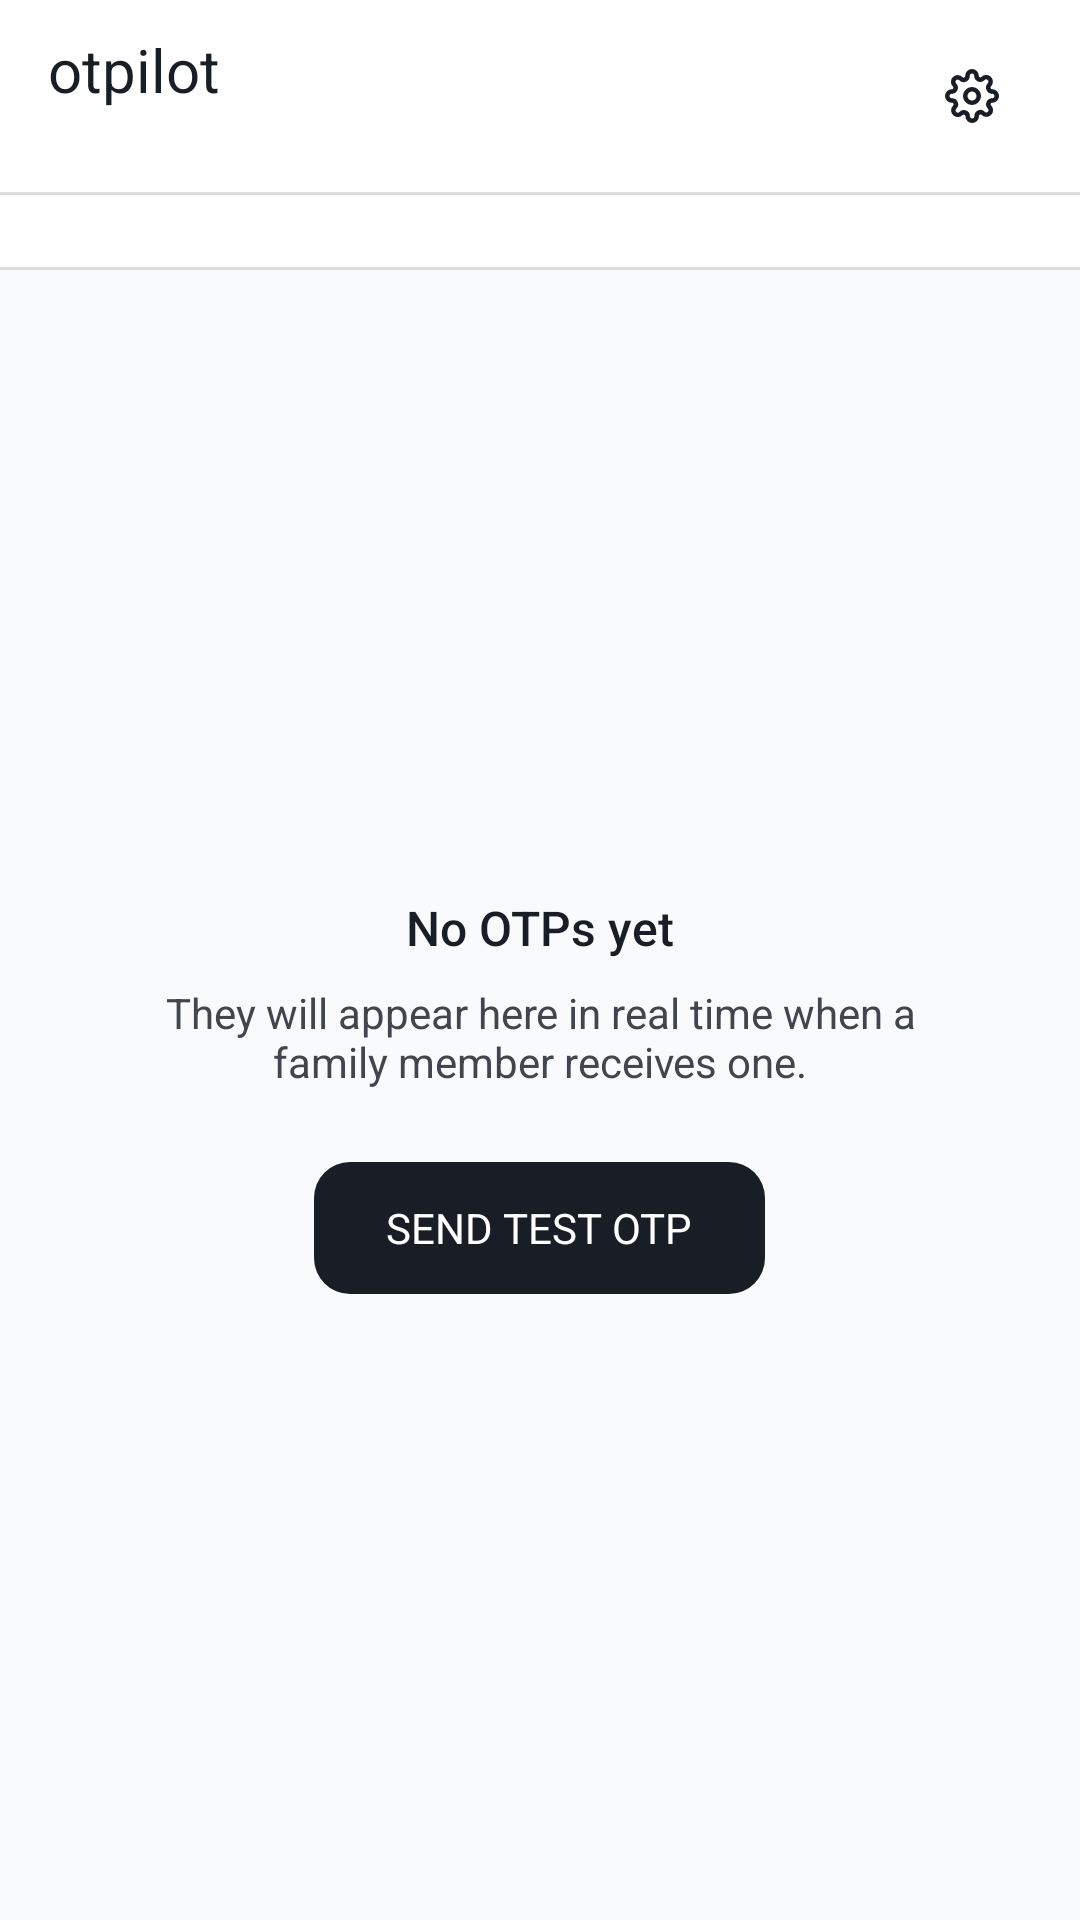

Icons on this 1080 x 1920 Android screen, each with its box as (left=x1, top=y1, right=x2, bottom=y2):
Settings: (left=945, top=69, right=999, bottom=123)
